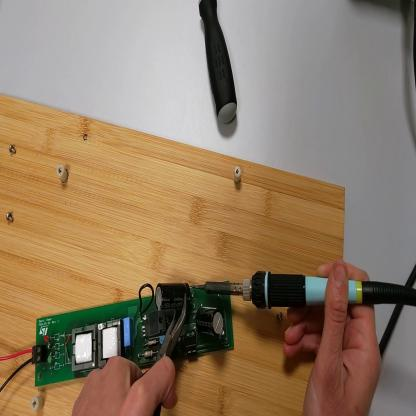hand: (284, 257, 382, 416), (71, 354, 180, 416)
high voltage board: (1, 281, 236, 393)
pliers: (150, 293, 190, 369)
screwdriver-: (198, 3, 240, 133)
welder probe tip: (193, 271, 416, 311)
working area: (1, 93, 352, 416)
